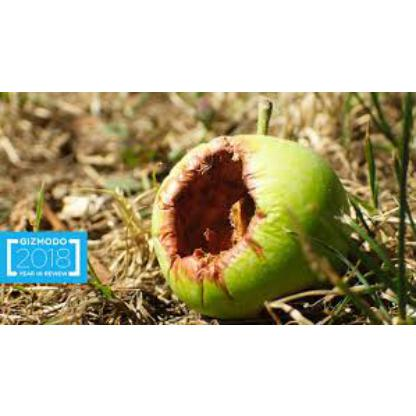apple: (153, 135, 347, 311)
